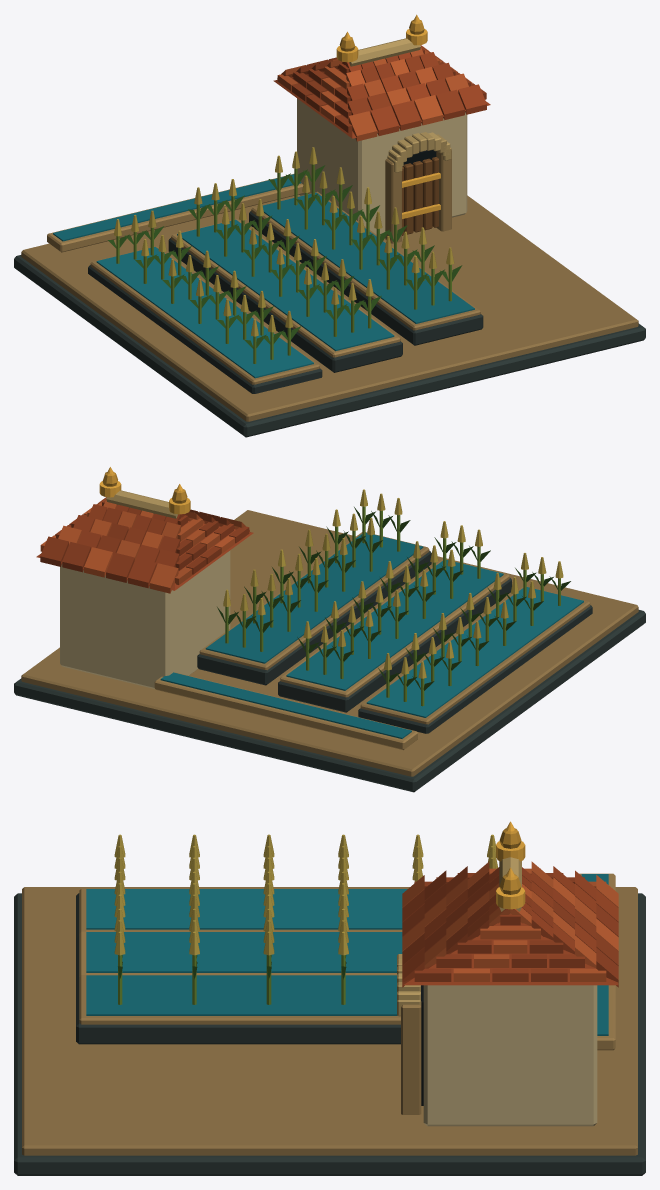
3 renders of one model, top to bottom at view 1: azimuth 30°, elevation 25°; view 2: azimuth 150°, elevation 25°; view 3: azimuth 270°, elevation 25°, orthographic. The views are drawn at different scales.
Visible parts, largest first — view 1: farm_2_structure, farm_2_metal; view 2: farm_2_structure, farm_2_metal; view 3: farm_2_structure, farm_2_metal.
Boxes of the visible parts, <box> form: farm_2_structure: <box>14,20,645,437</box>; farm_2_metal: <box>336,14,440,218</box>; farm_2_structure: <box>14,472,645,792</box>; farm_2_metal: <box>99,467,190,514</box>; farm_2_structure: <box>14,828,645,1175</box>; farm_2_metal: <box>496,821,525,909</box>.
Bounding box in the file's own units: 5.6 × 2.72 × 5.6.
